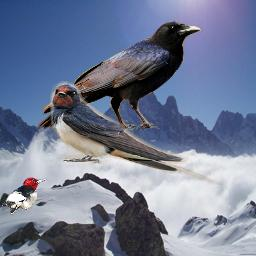Crow: (37, 19, 201, 130)
Swallow: (50, 81, 223, 185)
Woodpecker: (2, 177, 48, 215)
